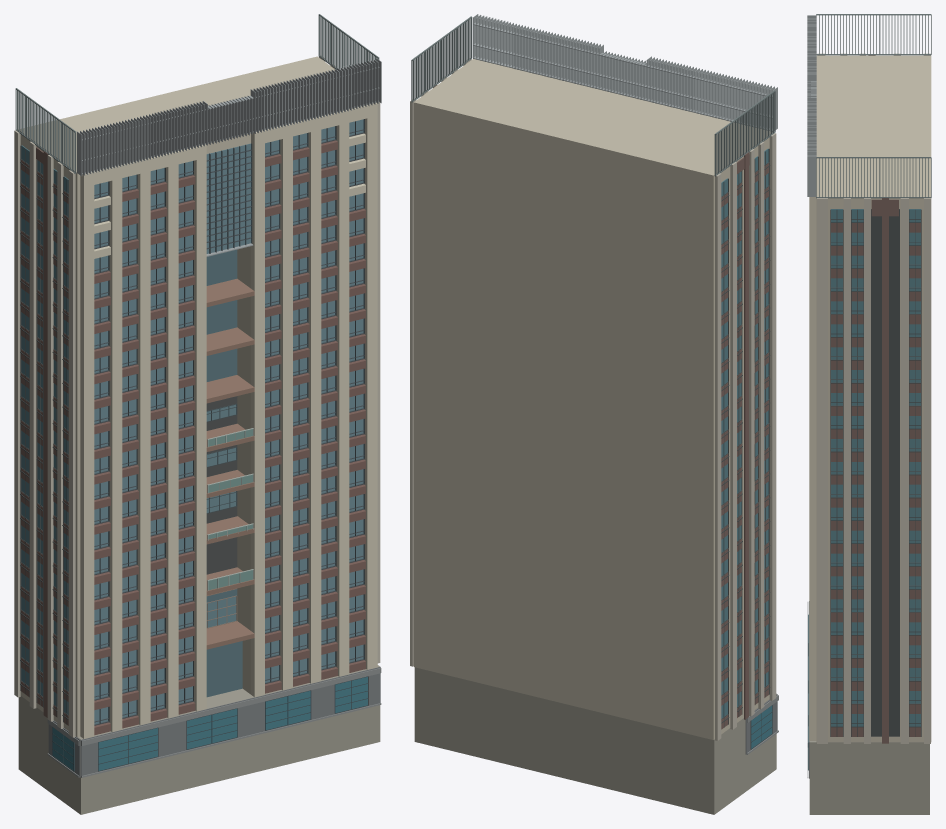
File: detail.glb
3 views of the same model, side by side, from view 1: azimuth 30°, elevation 25°; view 2: azimuth 150°, elevation 25°; view 3: azimuth 270°, elevation 25° (orthographic). The views are drawn at different scales.
Visible parts, largest first — view 1: E_KEEP_WEB_Observed_cream_stone_approx, E_KEEP_WEB_Observed_bluegray_glass_approx, E_KEEP_WEB_Observed_brown_spandrel_approx, G_stone_appearance, E_KEEP_WEB_Observed_dark_window_frame, E_KEEP_WEB_E_UNKNOWN_lower_back, E_KEEP_WEB_E_schematic_cream_body, E_KEEP_WEB_Observed_crown_metal, G_brown_spandrel_appearance, G_blue_window_appearance, G_frame_appearance, I_front_blue_field_0 (+9 smaller); view 2: E_KEEP_WEB_E_schematic_cream_body, E_KEEP_WEB_E_UNKNOWN_lower_back, G_stone_appearance, E_KEEP_WEB_Observed_crown_metal, G_brown_spandrel_appearance, G_frame_appearance, G_blue_window_appearance, G_crown_fold_metal; view 3: G_stone_appearance, E_KEEP_WEB_E_schematic_cream_body, G_frame_appearance, G_brown_spandrel_appearance, G_blue_window_appearance, E_KEEP_WEB_E_UNKNOWN_lower_back, G_crown_fold_metal, E_KEEP_WEB_Observed_cream_stone_approx, E_KEEP_WEB_Observed_crown_metal, I_front_shallow_edge.
Part boxes in pixels (x1,y1,x2,y2): E_KEEP_WEB_Observed_cream_stone_approx: (80, 102, 377, 738); E_KEEP_WEB_Observed_bluegray_glass_approx: (94, 119, 363, 724); E_KEEP_WEB_Observed_brown_spandrel_approx: (94, 140, 365, 735); G_stone_appearance: (14, 56, 380, 737); E_KEEP_WEB_Observed_dark_window_frame: (94, 119, 364, 725); E_KEEP_WEB_E_UNKNOWN_lower_back: (18, 665, 380, 814); E_KEEP_WEB_E_schematic_cream_body: (18, 56, 334, 736); E_KEEP_WEB_Observed_crown_metal: (77, 58, 381, 256); G_brown_spandrel_appearance: (21, 147, 68, 725); G_blue_window_appearance: (21, 145, 68, 714); G_frame_appearance: (20, 145, 68, 724); I_front_blue_field_0: (52, 677, 367, 770); E_KEEP_WEB_E_schematic_cream_body: (413, 59, 772, 739); E_KEEP_WEB_E_UNKNOWN_lower_back: (414, 667, 776, 814); G_stone_appearance: (410, 58, 776, 740); E_KEEP_WEB_Observed_crown_metal: (473, 14, 777, 131); G_brown_spandrel_appearance: (433, 85, 768, 729); G_frame_appearance: (721, 148, 770, 727); G_blue_window_appearance: (721, 148, 768, 718); G_crown_fold_metal: (411, 16, 775, 176); G_stone_appearance: (817, 53, 930, 743); E_KEEP_WEB_E_schematic_cream_body: (816, 55, 931, 742); G_frame_appearance: (830, 209, 921, 736); G_brown_spandrel_appearance: (831, 55, 920, 743); G_blue_window_appearance: (830, 209, 921, 726); E_KEEP_WEB_E_UNKNOWN_lower_back: (809, 741, 929, 814); G_crown_fold_metal: (816, 14, 931, 198); E_KEEP_WEB_Observed_cream_stone_approx: (809, 197, 816, 740); E_KEEP_WEB_Observed_crown_metal: (807, 15, 816, 196); I_front_shallow_edge: (807, 602, 808, 777).
Size of the model in its own units: 51.28 by 109 by 18.58.
